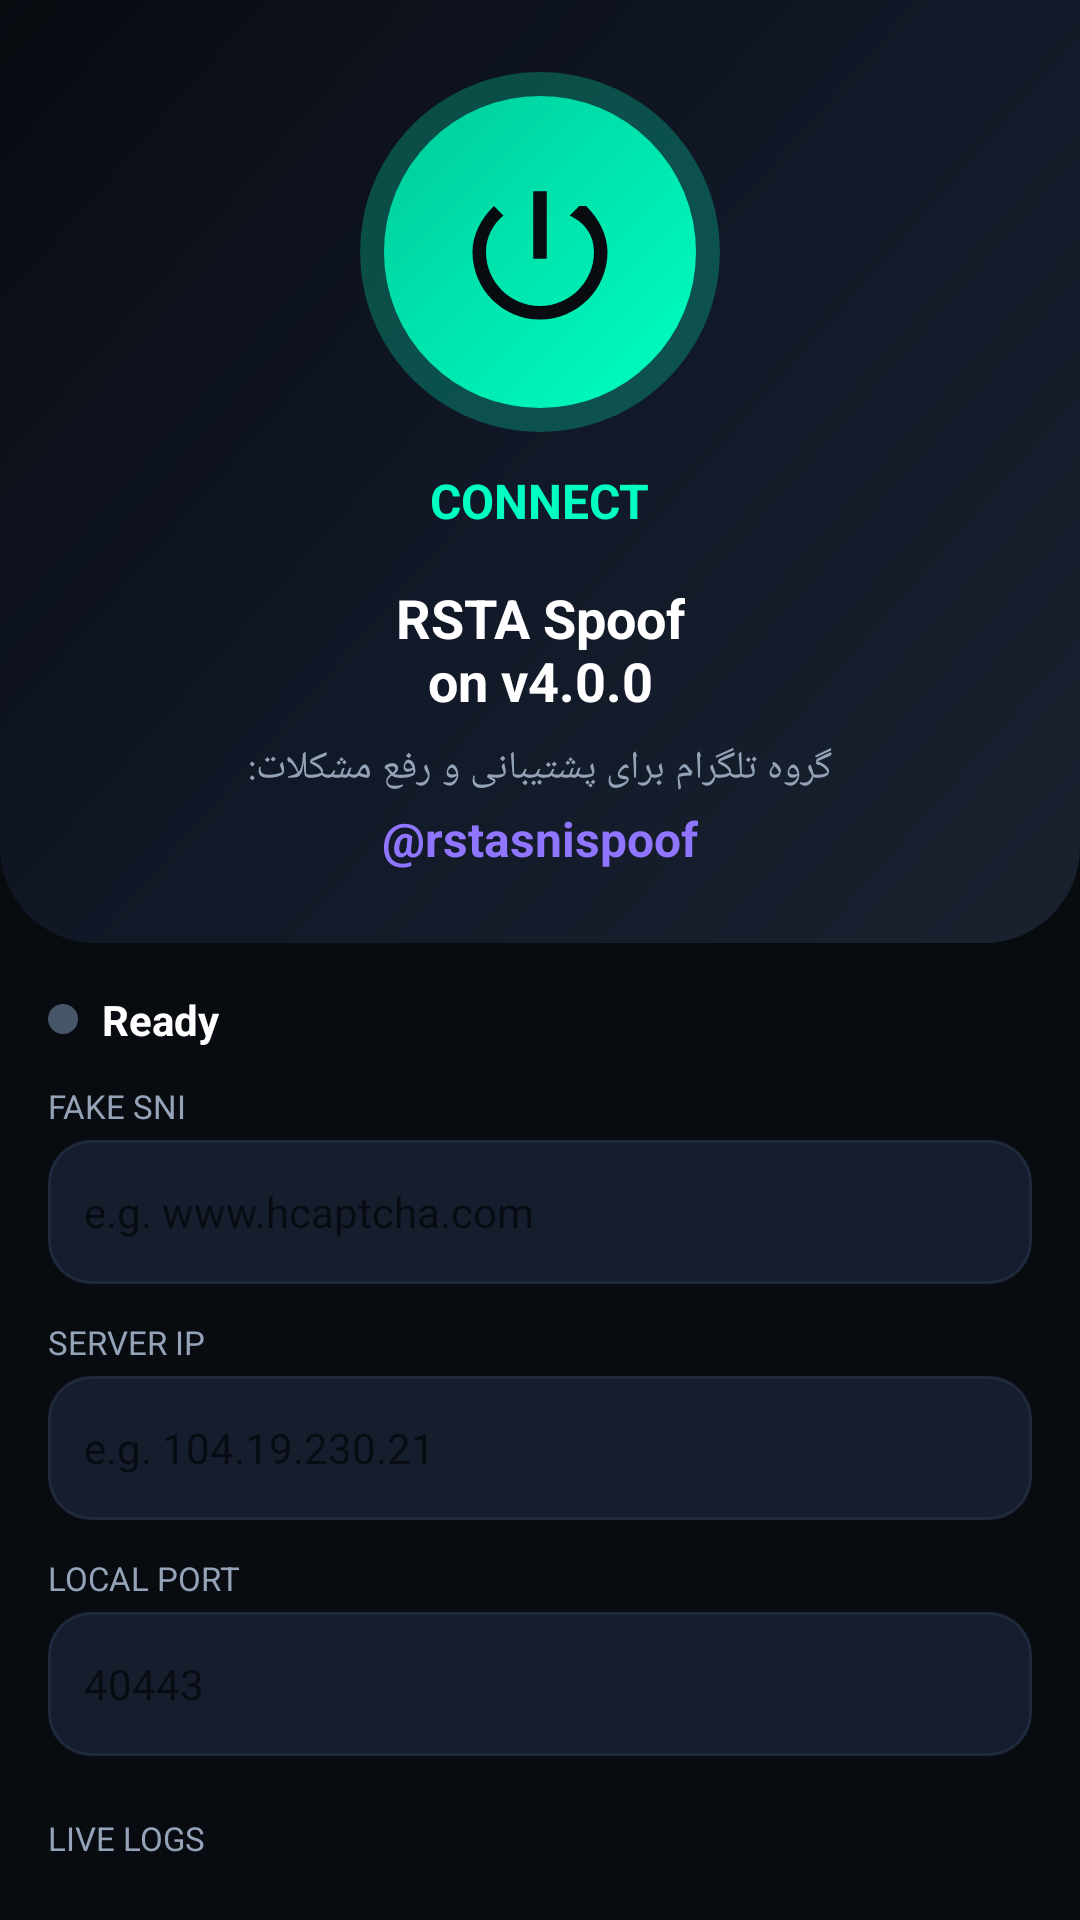

Icon click points for this 1080*1920 phone screenshot, format (x,y):
indicator idle: (63,1019)
